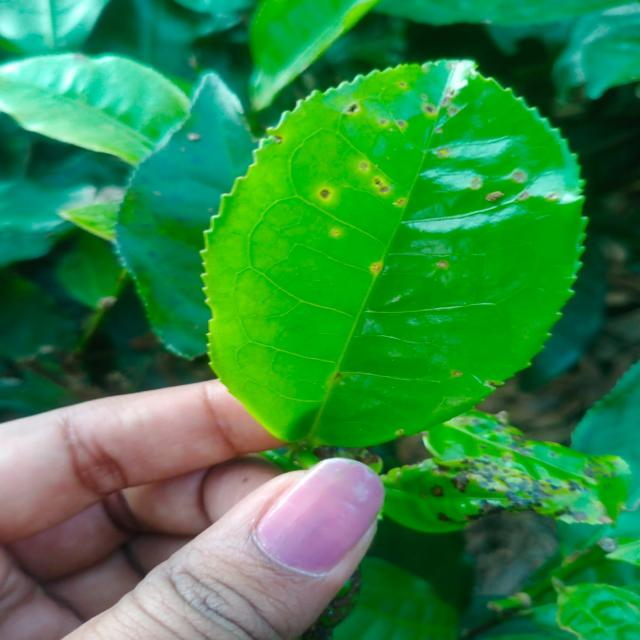Category D(7+ days, Not for Tea): (171, 50, 601, 474)
